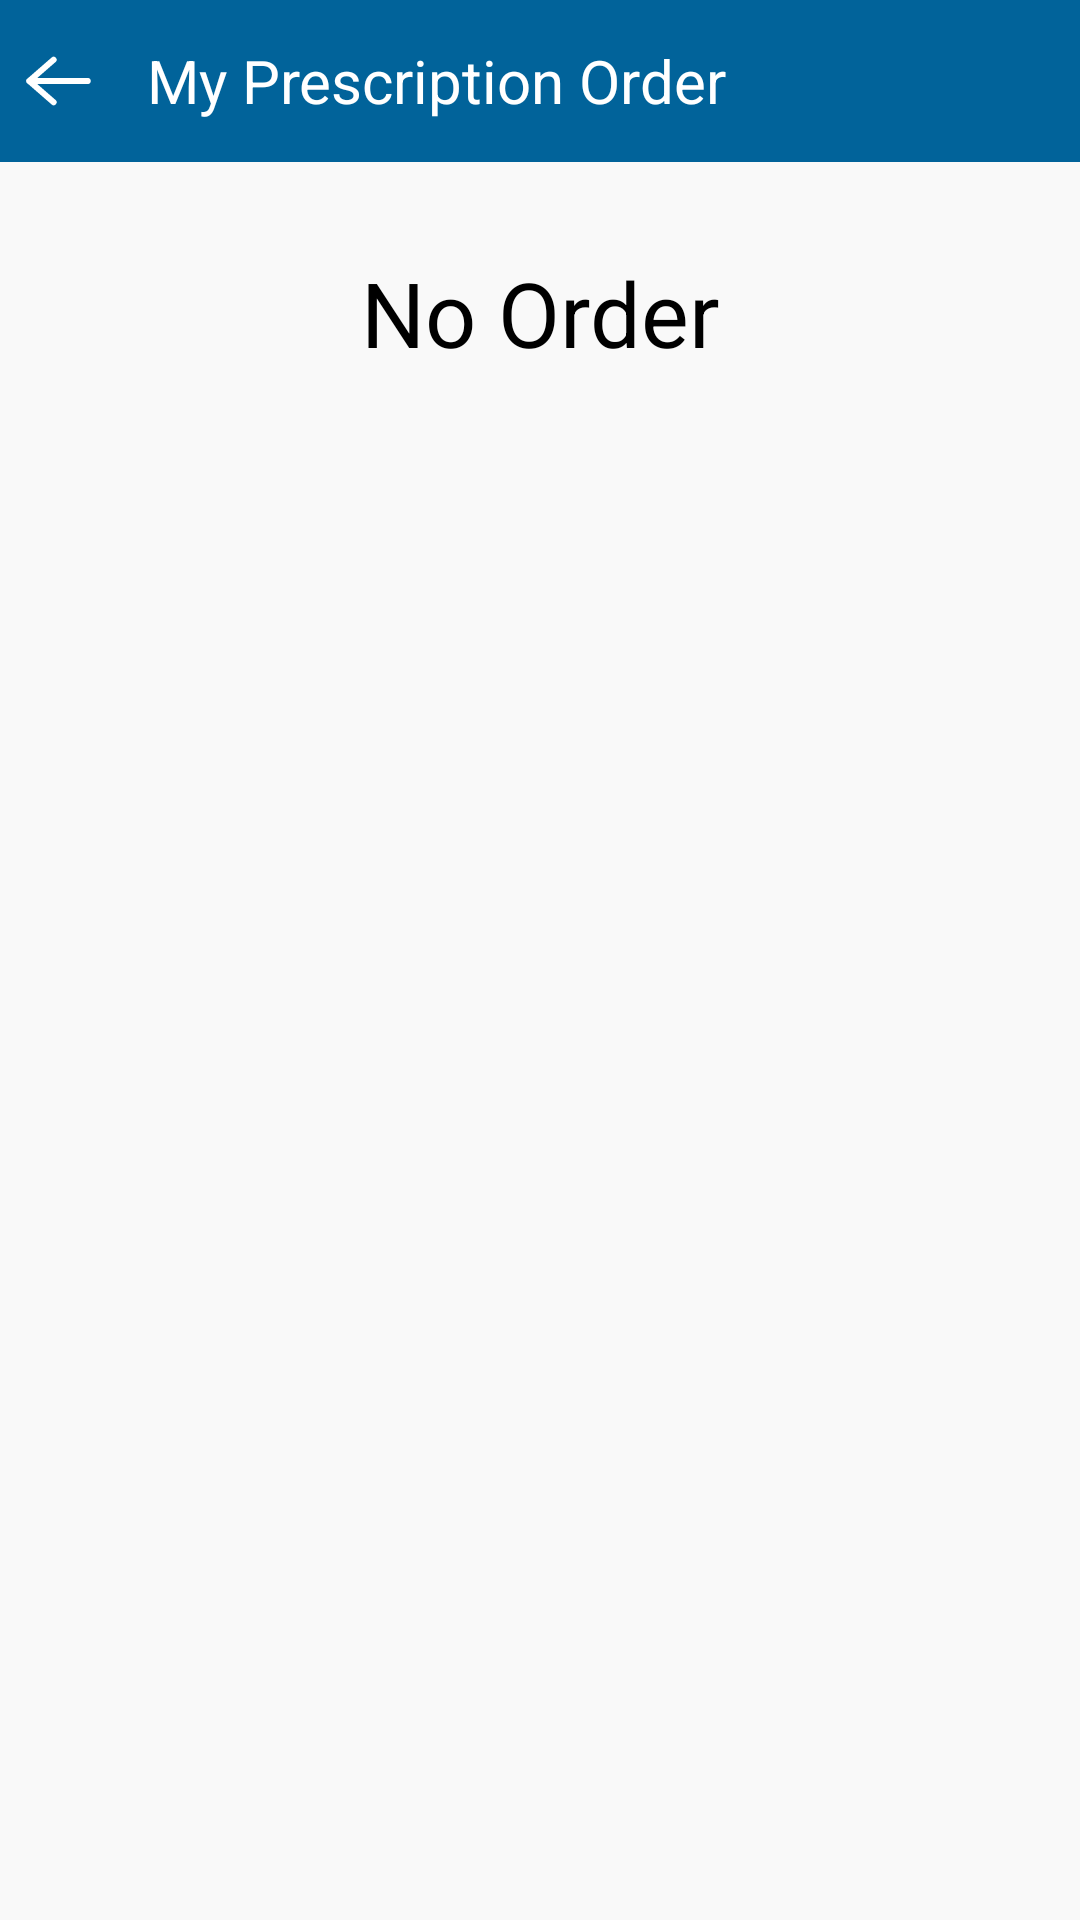

Icons on this 1080w x 1920h Android screen, each with the point to tap as point (x, y):
back: point (58, 81)
